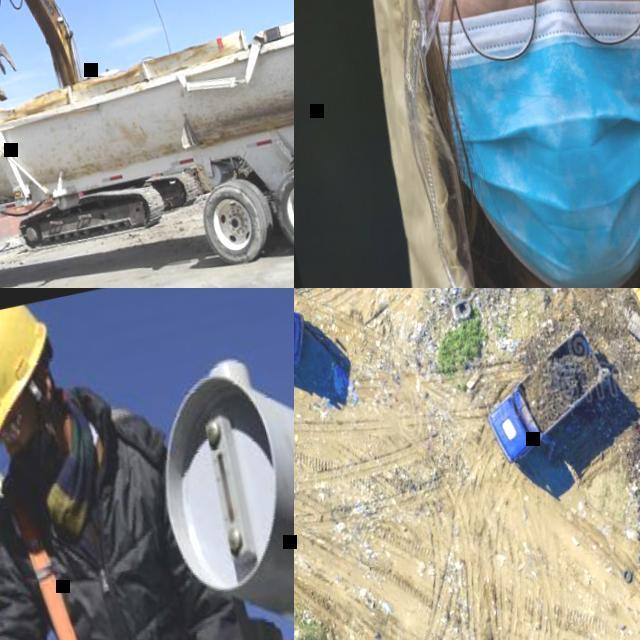helmet: (0, 301, 65, 444)
